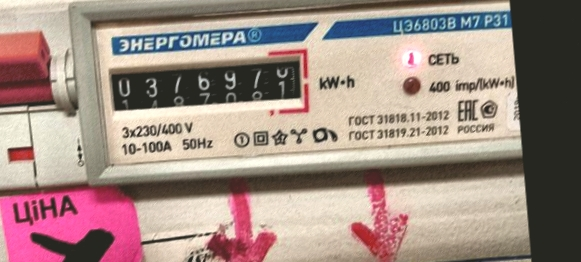0: (116, 75, 131, 99)
1: (274, 79, 288, 100)
3: (143, 76, 160, 99)
6: (194, 68, 211, 92)
7: (167, 71, 184, 95), (248, 66, 264, 90)
9: (220, 68, 237, 92)
screen: (98, 43, 315, 134)
